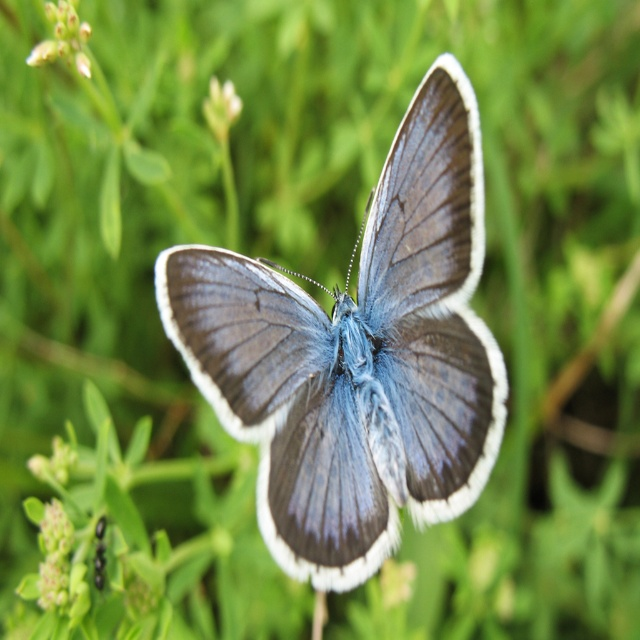Butterfly: (151, 48, 519, 591)
